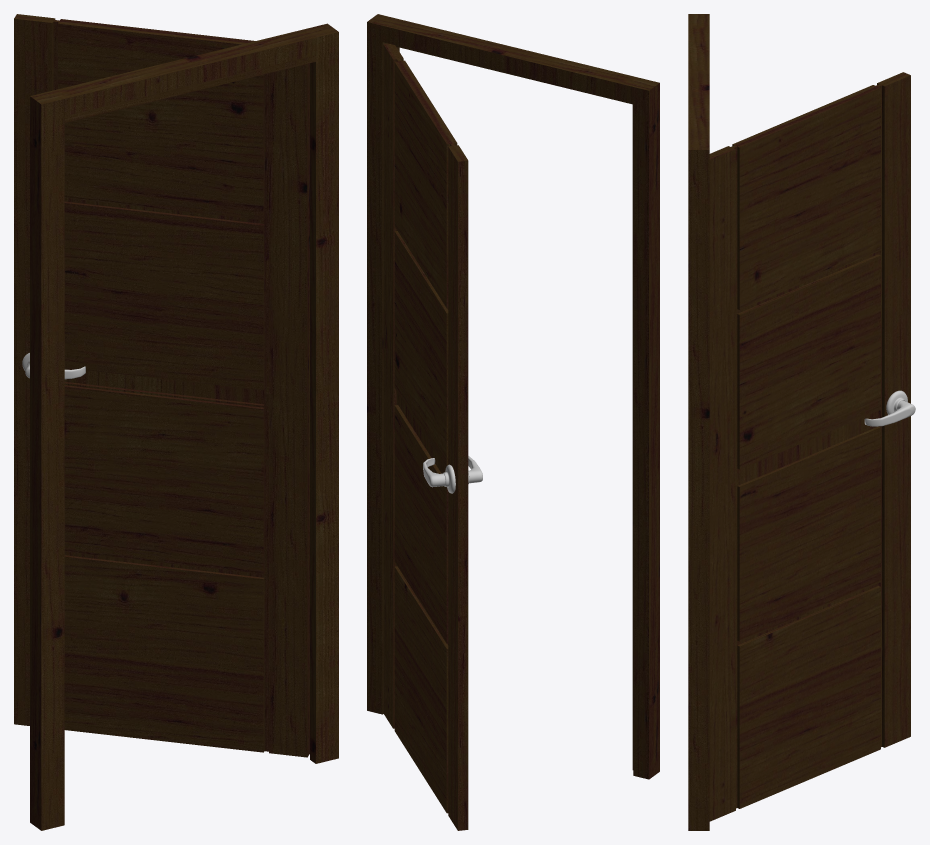
Rendered from door_inverted.glb.
3 renders of one model, left to right at view 1: azimuth 30°, elevation 25°; view 2: azimuth 150°, elevation 25°; view 3: azimuth 270°, elevation 25°, orthographic. The views are drawn at different scales.
Parts seen in each view (by area): view 1: Door.017, DoorFrame.017; view 2: Door.017, DoorFrame.017; view 3: Door.017, DoorFrame.017.
Part boxes in pixels (box(x1,y1,x2,y2)): Door.017: box(14, 14, 309, 757); DoorFrame.017: box(30, 23, 338, 830); Door.017: box(383, 43, 482, 830); DoorFrame.017: box(367, 14, 659, 779); Door.017: box(709, 72, 915, 821); DoorFrame.017: box(688, 14, 709, 830).
Bounding box in the file's own units: 0.9 × 2.1 × 0.6354.
Materials: 2 (1 with a texture image).
